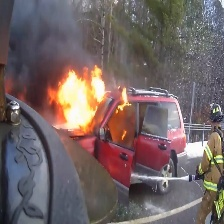fire: (48, 64, 105, 131), (116, 84, 129, 112)
